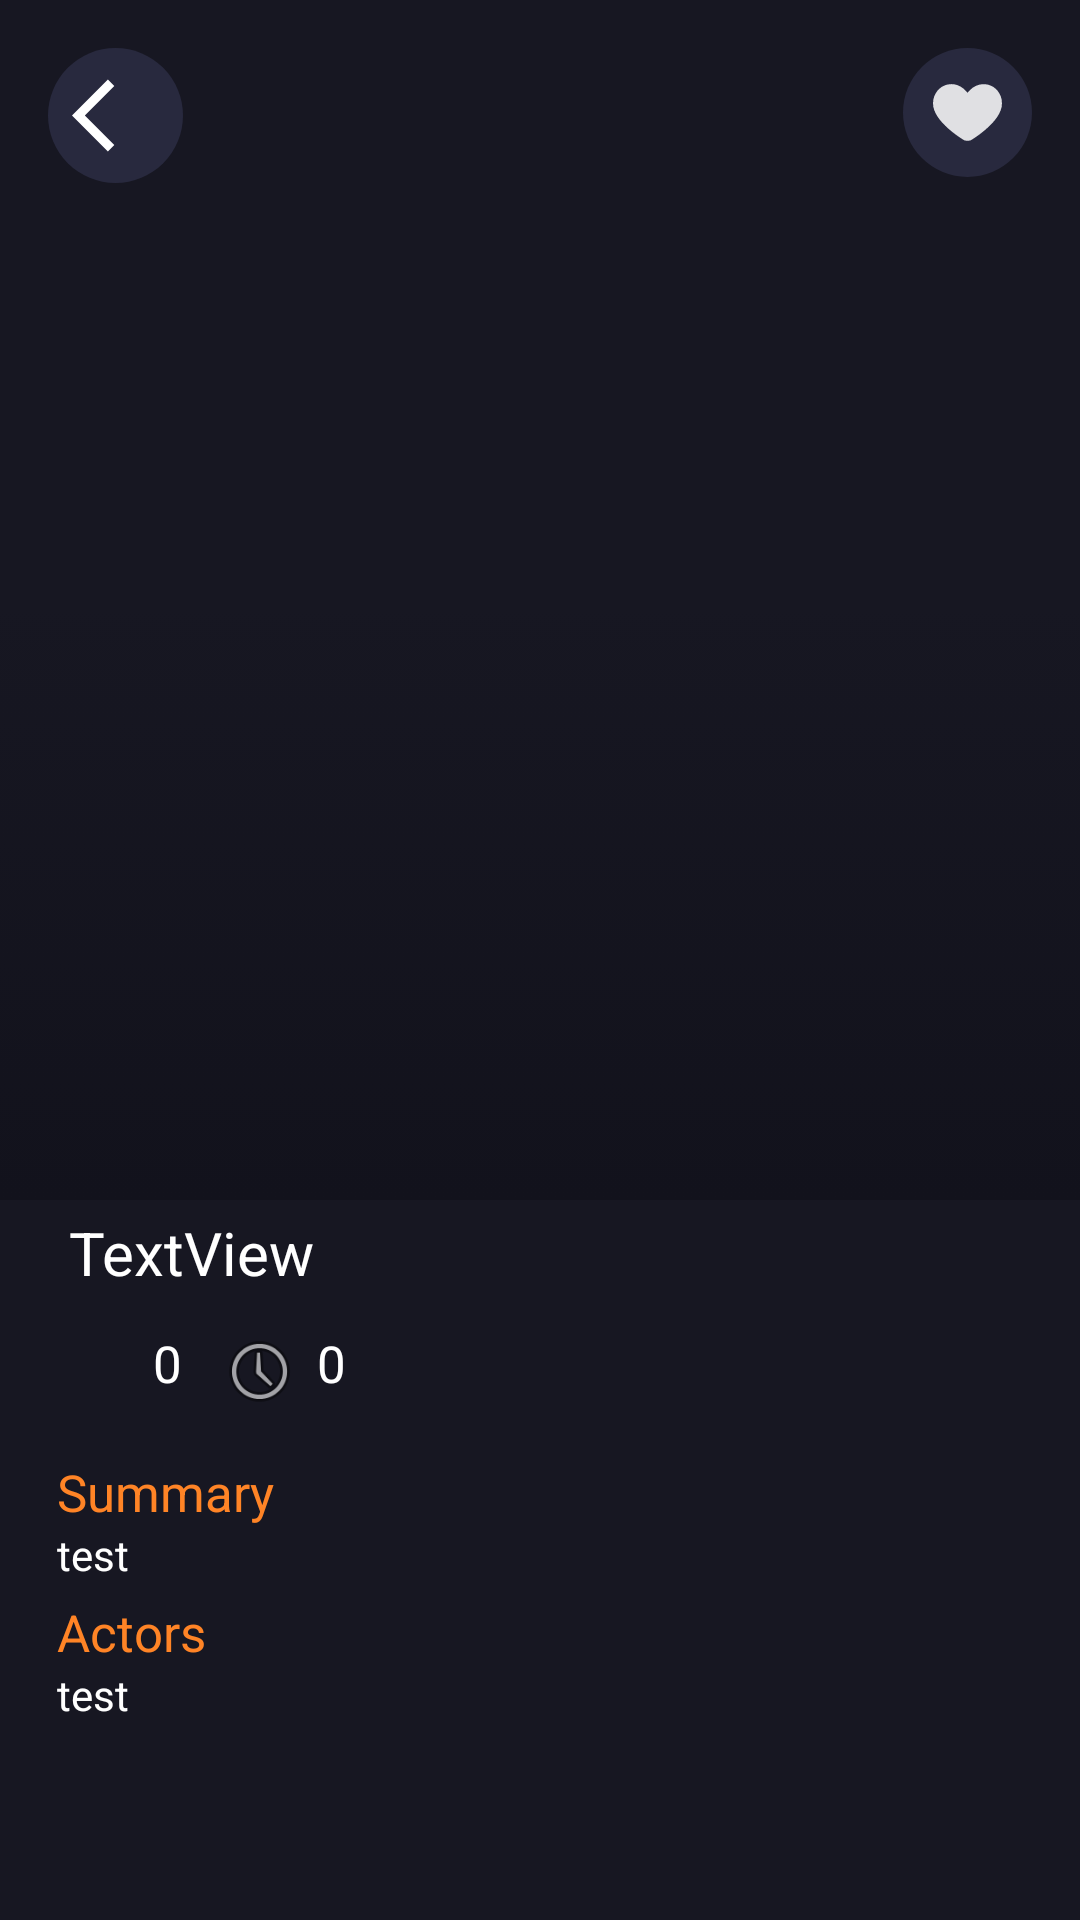

Where icons sit on this 1080*1920 app screen, as (x1, y1, x2, y2):
arrow back: (48, 48, 183, 183)
heart: (903, 48, 1032, 177)
recent history: (232, 1344, 287, 1399)
